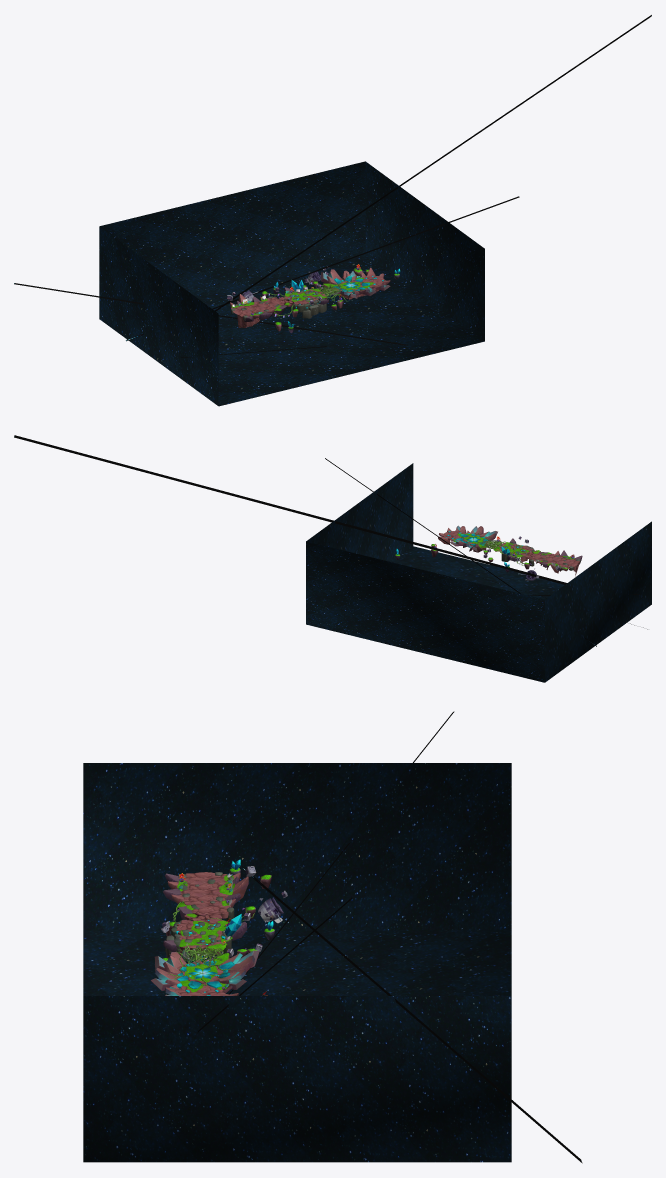
Rendered from 21_07_Loi_Minh_Hem_Nui.glb.
3 views of the same model, one above another, from view 1: azimuth 30°, elevation 25°; view 2: azimuth 150°, elevation 25°; view 3: azimuth 270°, elevation 25° (orthographic). The views are drawn at different scales.
Visible parts, largest first — view 1: 21_07_Loi_Minh_Hem_Nui; view 2: 21_07_Loi_Minh_Hem_Nui; view 3: 21_07_Loi_Minh_Hem_Nui.
Part boxes in pixels (x1=…): 21_07_Loi_Minh_Hem_Nui: x1=14, y1=15, x2=651, y2=406; 21_07_Loi_Minh_Hem_Nui: x1=14, y1=435, x2=651, y2=682; 21_07_Loi_Minh_Hem_Nui: x1=83, y1=711, x2=582, y2=1163.
Bounding box in the file's own units: 460 × 106 × 165.
15 materials, 13 textured.
